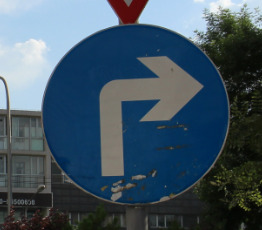right_turn: (41, 24, 229, 205)
